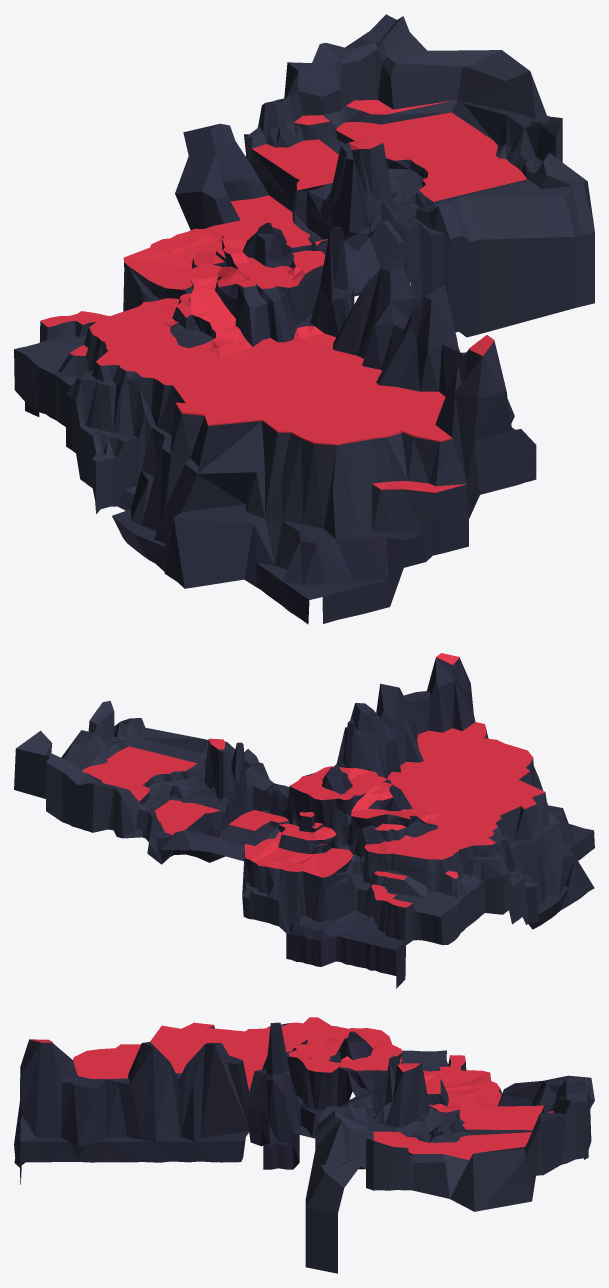
Rendered from Terrain_GroundTest2.fbx.
3 views of the same model, one above another, from view 1: azimuth 30°, elevation 25°; view 2: azimuth 150°, elevation 25°; view 3: azimuth 270°, elevation 25° (orthographic). The views are drawn at different scales.
Parts seen in each view (by area): view 1: Mountains.002; view 2: Mountains.002; view 3: Mountains.002.
Part boxes in pixels (<box>): Mountains.002: <box>14,14,594,624</box>; Mountains.002: <box>14,653,594,988</box>; Mountains.002: <box>14,1017,594,1273</box>.
Size of the model in its own units: 24881 by 11118 by 25612.
